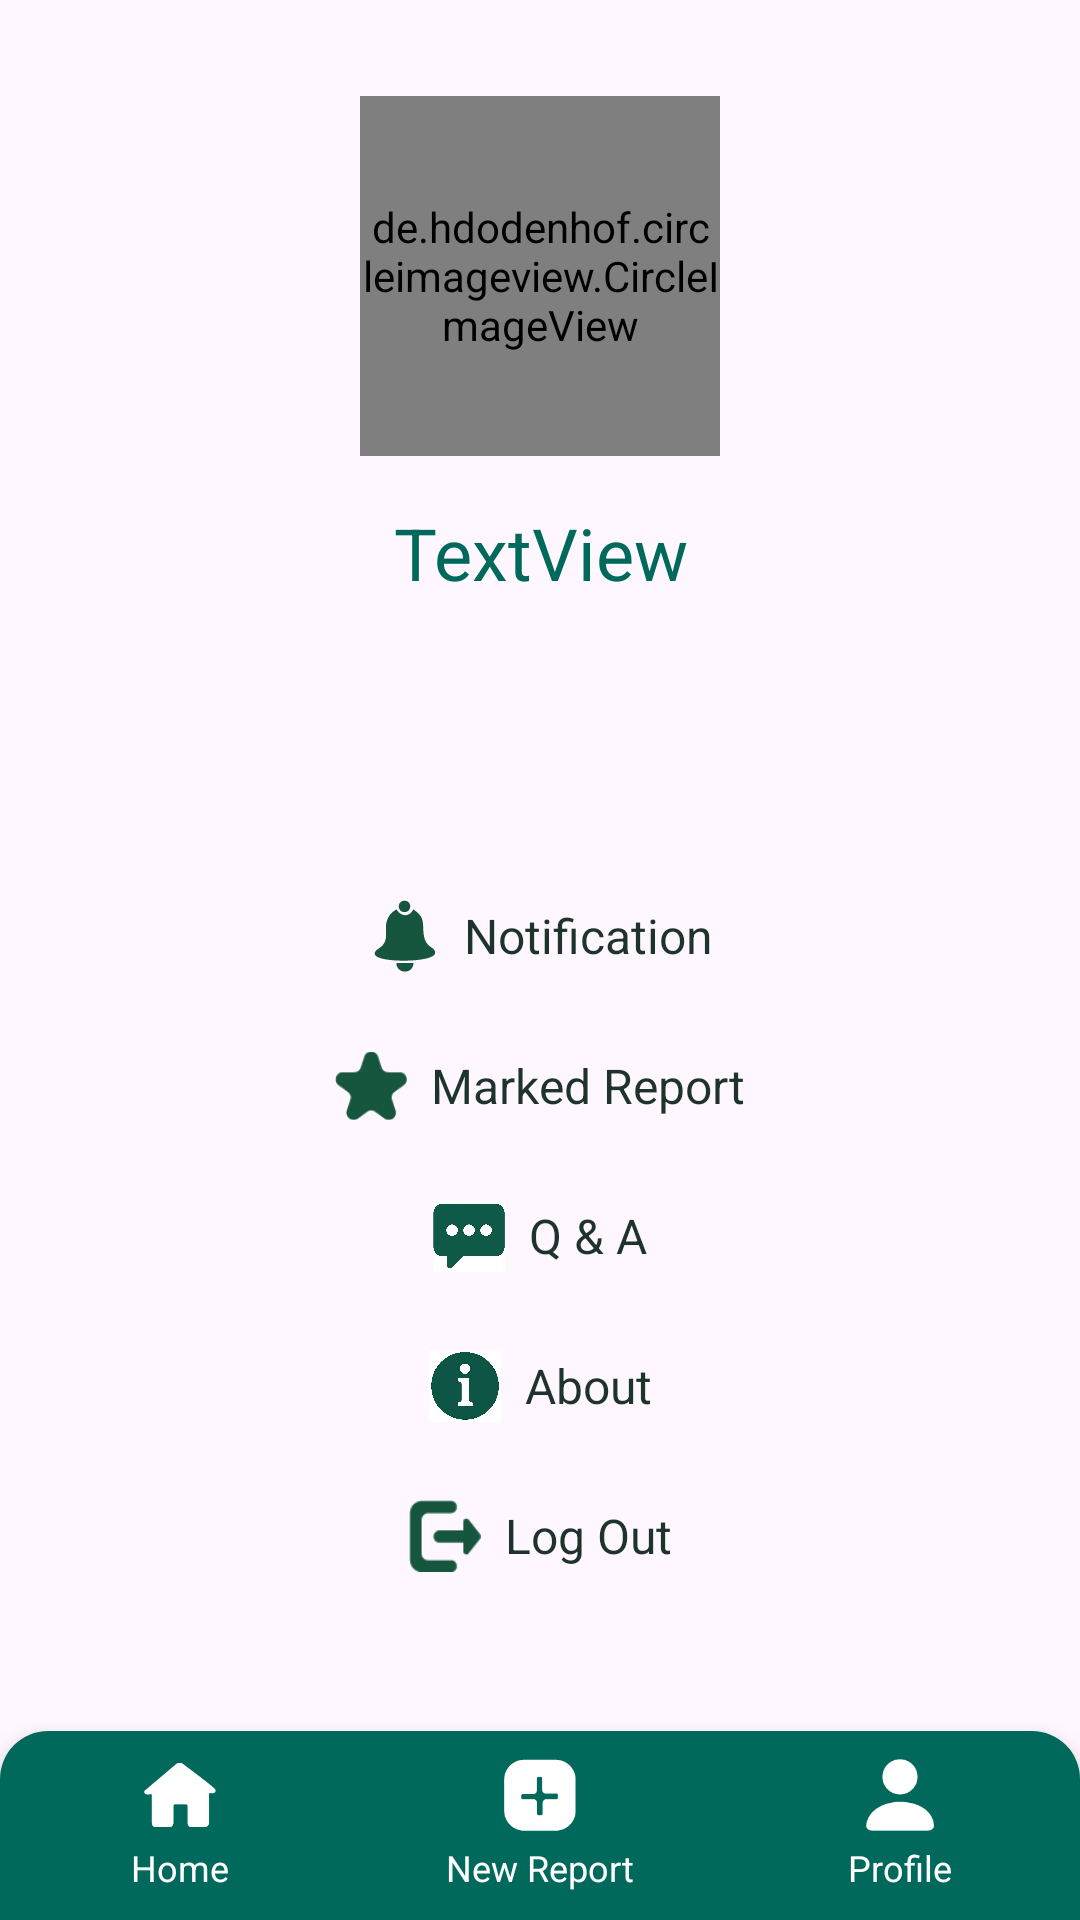

Icon click points for this 1080px×1920px phone screenshot, format [x,y]:
chat: [469,1236]
